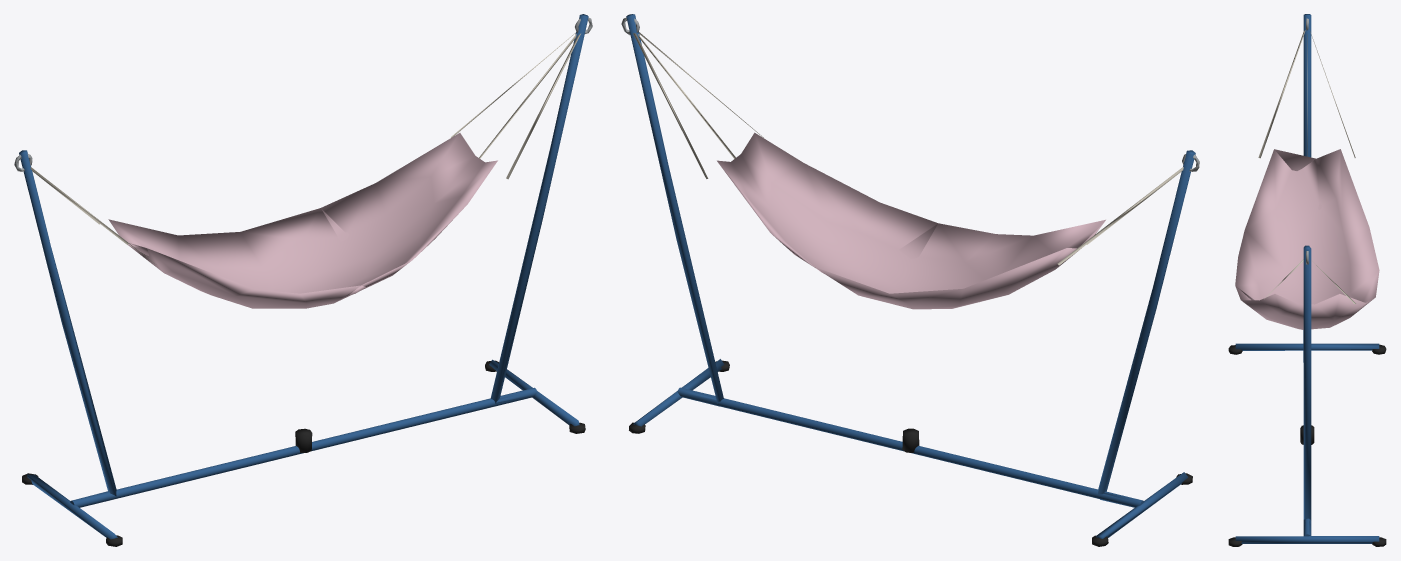
File: vong.glb
The picture shows the model from 3 angles, left to right: view 1: azimuth 30°, elevation 25°; view 2: azimuth 150°, elevation 25°; view 3: azimuth 270°, elevation 25°; orthographic projection. The views are drawn at different scales.
Parts seen in each view (by area): view 1: w_vai_vong, w_khung_vong, w_day_vong; view 2: w_vai_vong, w_khung_vong, w_day_vong; view 3: w_vai_vong, w_khung_vong, w_day_vong.
Part boxes in pixels (left/top/right/bottom): w_vai_vong: left=108, top=133, right=497, bottom=308; w_khung_vong: left=14, top=14, right=592, bottom=546; w_day_vong: left=30, top=32, right=580, bottom=263; w_vai_vong: left=717, top=132, right=1105, bottom=309; w_khung_vong: left=621, top=14, right=1199, bottom=546; w_day_vong: left=633, top=32, right=1183, bottom=265; w_vai_vong: left=1235, top=149, right=1379, bottom=329; w_khung_vong: left=1228, top=14, right=1386, bottom=546; w_day_vong: left=1258, top=30, right=1355, bottom=303.
Bounding box in the file's own units: 2.37 × 1.46 × 0.6596.
